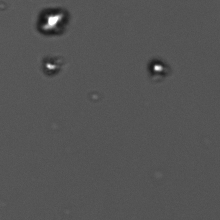Living Cell: (35, 6, 72, 36), (149, 56, 170, 79), (40, 56, 60, 74)
